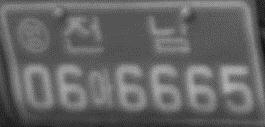0: (22, 63, 54, 109)
5: (219, 64, 255, 114)
6: (184, 63, 218, 114), (114, 64, 148, 113), (150, 62, 182, 112), (55, 63, 86, 112)
아: (87, 65, 114, 108)
영: (16, 16, 53, 54)
전남_D: (62, 14, 192, 56)
